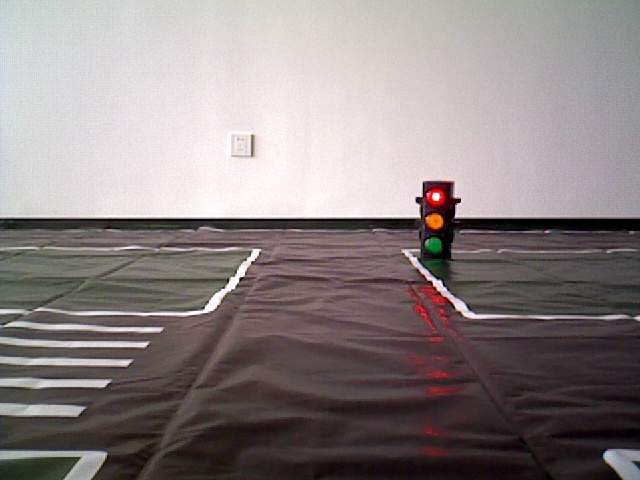red: (420, 180, 447, 260)
